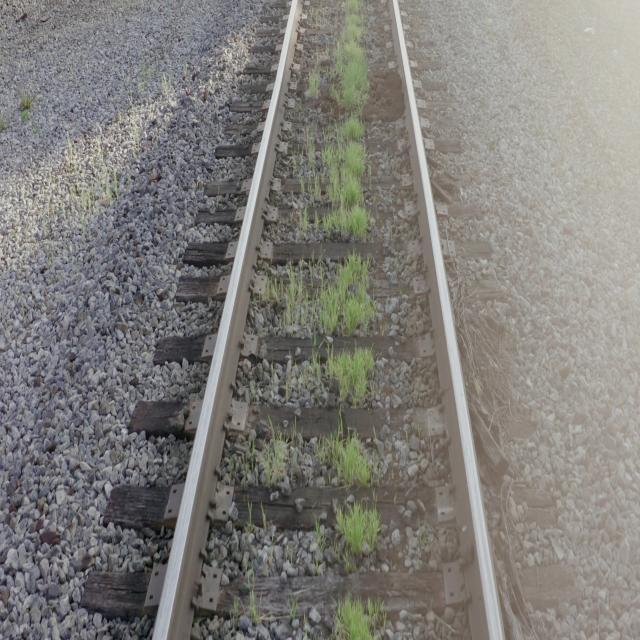Plant: (290, 0, 371, 240), (270, 251, 380, 338), (268, 427, 378, 487), (299, 349, 380, 407), (339, 498, 380, 571), (330, 593, 384, 640), (334, 593, 386, 640)
